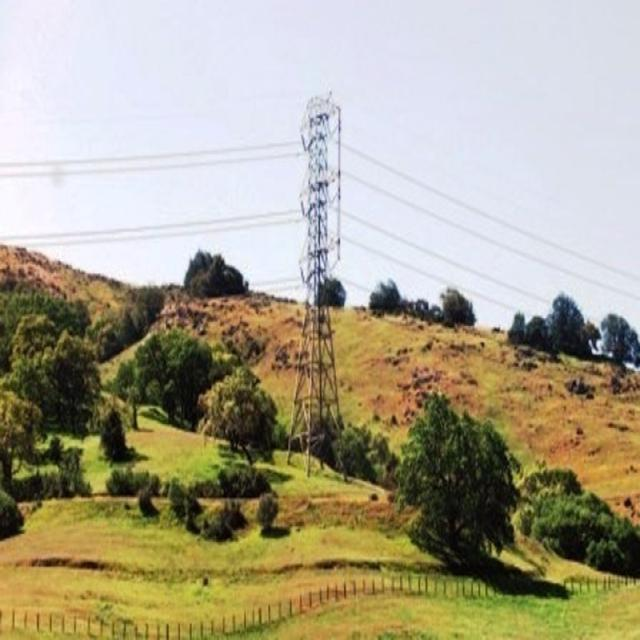utility poles: (276, 98, 351, 477)
